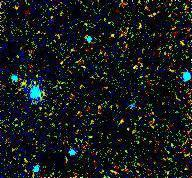star: (9, 70, 39, 100)
